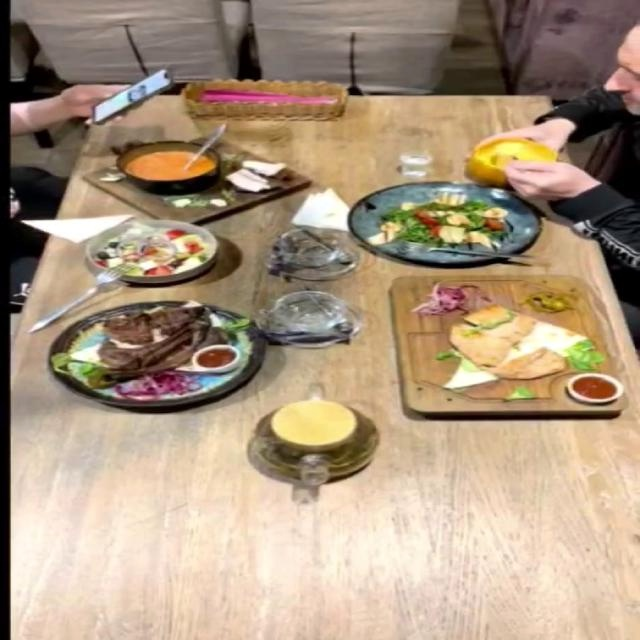meat: (367, 269, 634, 416), (49, 300, 269, 408)
salad: (352, 181, 546, 265), (83, 219, 220, 284)
soup: (83, 138, 313, 225), (469, 138, 558, 186)
tea: (236, 370, 389, 506)
